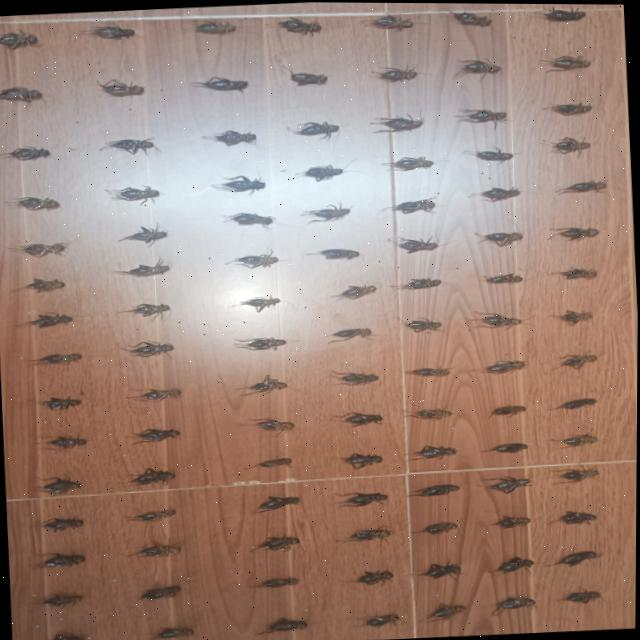egg: (113, 259, 170, 277), (302, 204, 352, 224), (117, 225, 168, 244), (212, 176, 265, 194), (542, 54, 592, 72), (482, 475, 532, 493), (99, 139, 156, 154), (120, 301, 170, 318), (203, 130, 256, 146), (97, 79, 144, 97), (192, 77, 248, 92), (290, 122, 339, 139), (124, 341, 174, 357), (367, 14, 414, 31), (13, 243, 66, 258), (242, 375, 286, 393), (228, 253, 277, 269), (297, 164, 343, 181), (130, 468, 176, 485), (455, 59, 501, 76), (372, 116, 423, 131), (35, 553, 86, 568), (106, 187, 160, 201), (384, 156, 434, 171), (277, 16, 321, 33), (334, 492, 387, 506), (495, 596, 536, 614), (254, 496, 300, 512), (392, 237, 438, 253), (259, 618, 308, 633), (25, 313, 73, 328), (373, 66, 418, 82), (252, 536, 300, 551), (127, 389, 182, 402), (0, 32, 39, 50), (557, 180, 607, 194), (15, 278, 65, 292), (224, 212, 274, 226), (331, 285, 377, 300), (134, 428, 180, 443), (390, 198, 436, 213), (555, 550, 601, 565), (550, 138, 590, 155), (130, 544, 182, 557), (39, 436, 87, 450), (39, 477, 81, 493), (0, 87, 42, 103), (37, 594, 85, 608), (419, 563, 461, 579), (236, 337, 287, 350), (0, 146, 51, 159), (477, 231, 521, 246), (328, 328, 372, 343), (472, 187, 519, 201), (543, 103, 593, 116), (410, 483, 460, 496), (245, 419, 295, 432), (456, 109, 506, 122), (343, 529, 393, 542), (475, 313, 521, 327), (411, 445, 457, 459), (343, 453, 383, 469), (463, 148, 512, 161), (12, 198, 60, 211), (240, 297, 281, 312), (451, 11, 492, 26), (140, 585, 181, 600), (498, 556, 534, 573), (553, 227, 600, 240), (148, 627, 195, 640), (543, 7, 586, 21), (125, 510, 175, 522), (353, 570, 393, 585), (333, 372, 379, 385), (39, 397, 81, 411), (42, 518, 84, 532), (551, 434, 596, 447), (89, 25, 134, 38), (341, 412, 382, 426), (194, 20, 235, 34), (308, 248, 360, 259), (30, 353, 82, 364), (560, 354, 598, 369), (428, 604, 466, 619), (483, 360, 526, 373), (404, 318, 442, 332), (398, 277, 442, 289), (562, 589, 602, 602), (560, 468, 599, 481), (559, 510, 598, 523), (407, 408, 453, 419), (554, 267, 597, 278), (291, 72, 327, 85), (559, 310, 592, 324), (555, 397, 597, 408), (254, 577, 299, 587), (421, 522, 458, 534), (494, 515, 531, 527), (364, 614, 400, 626), (485, 272, 523, 283), (481, 443, 527, 452), (252, 457, 292, 467), (408, 367, 450, 376), (492, 405, 526, 415), (50, 633, 85, 640), (38, 284, 49, 290)
